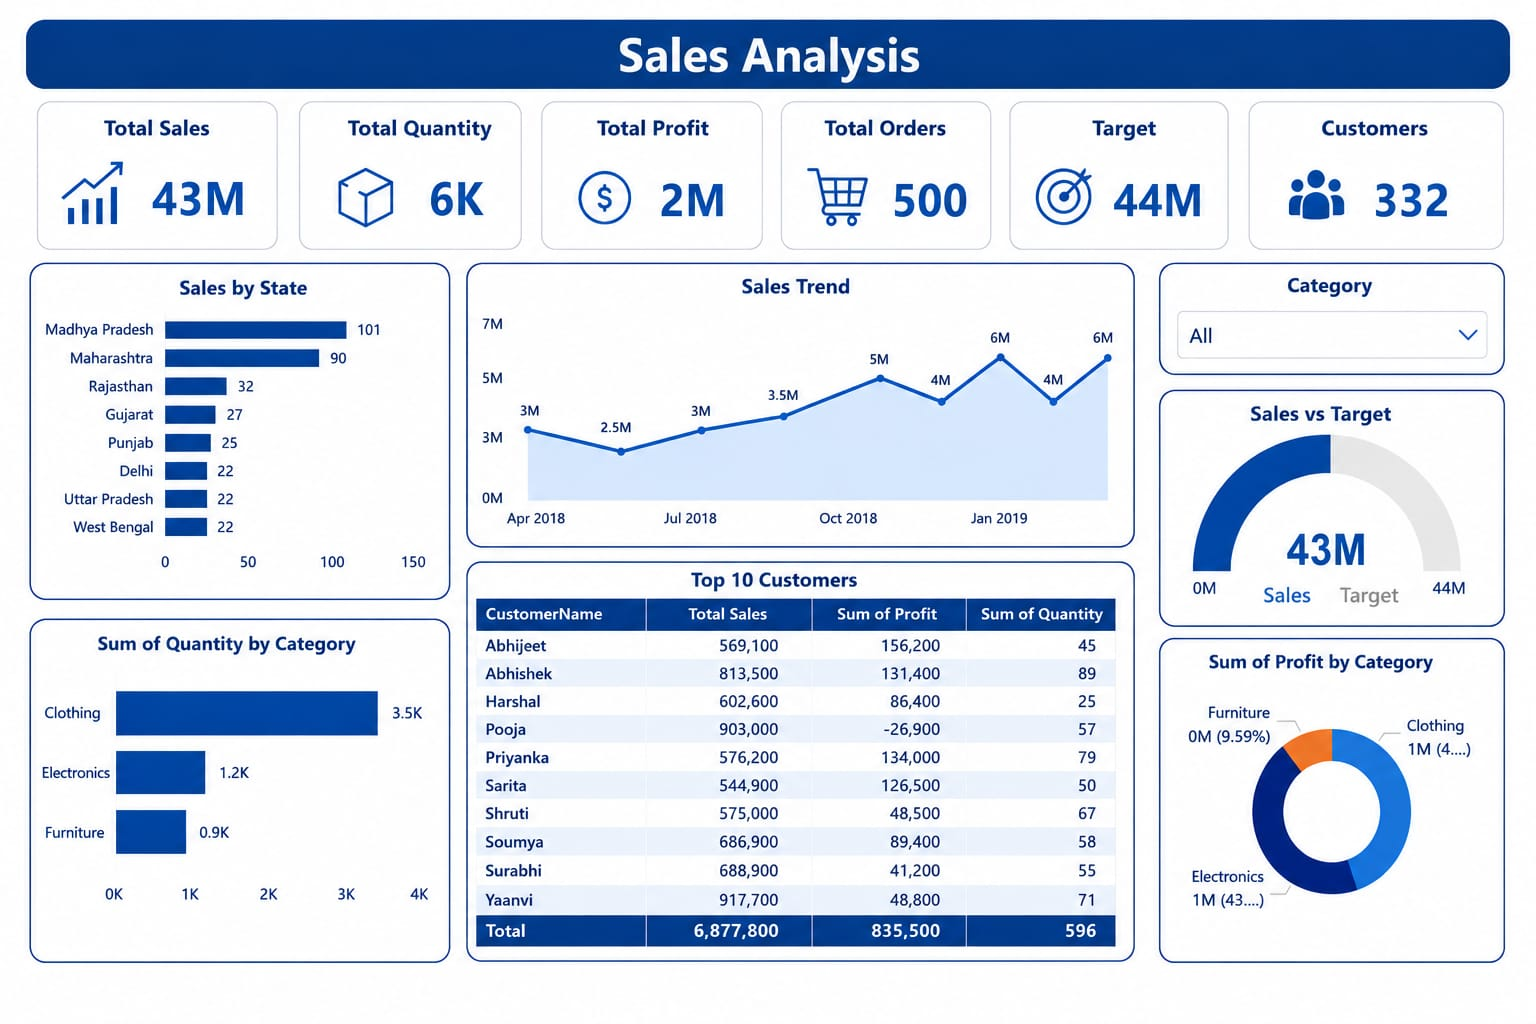

The page's visual inventory and layout, read from the dashboard file:
{"tool":"powerbi","page":{"name":"Page 1","canvas":[1280,720],"ordinal":0},"visuals":[{"type":"cardVisual","title":"Total Sales","fields":{"Data":["List of Orders.Total Sales"]},"box":[66.7,68.3,161.7,113.3],"z":0},{"type":"shape","box":[0,0,1280,61.7],"z":1000},{"type":"cardVisual","title":"Total Quantity","fields":{"Data":["Sum(Order Details.Quantity)"]},"box":[258.3,68.3,160,113.3],"z":2000},{"type":"cardVisual","title":"Total Profit","fields":{"Data":["Sum(Order Details.Profit)"]},"box":[445,66.7,158.3,115],"z":3000},{"type":"cardVisual","title":"Total Orders","fields":{"Data":["Order Details.Total Orders"]},"box":[640,66.7,160,115],"z":4000},{"type":"cardVisual","title":"Customers","fields":{"Data":["List of Orders.Total Customers"]},"box":[1026.7,65,160,115],"z":5000},{"type":"cardVisual","title":"Target","fields":{"Data":["Sum(Sales target.Target)"]},"box":[836.7,65,160,115],"z":6000},{"type":"barChart","title":"Sales by State","fields":{"Category":["List of Orders.State"],"Y":["CountNonNull(List of Orders.State)"]},"box":[5.3,200.4,418,263.7],"z":7000},{"type":"donutChart","fields":{"Category":["Order Details.Category"],"Y":["Sum(Order Details.Profit)"]},"box":[1013.9,507.6,253.2,199.1],"z":8000},{"type":"barChart","fields":{"Category":["Order Details.Category"],"Y":["Sum(Order Details.Quantity)"]},"box":[5.3,479.9,412.7,226.8],"z":9000},{"type":"gauge","title":"Sales vs Target","fields":{"TargetValue":["Sum(Sales target.Target)"],"Y":["List of Orders.Total Sales"]},"box":[1013.9,309.8,253.2,192.5],"z":10000},{"type":"slicer","title":"Category","fields":{"Values":["Order Details.Category"]},"box":[1019.7,200.2,253,96.2],"z":11000},{"type":"stackedAreaChart","title":"Sales  Trend","fields":{"Category":["List of Orders.Order Date.Variation.Date Hierarchy.Year","List of Orders.Order Date.Variation.Date Hierarchy.Quarter","List of Orders.Order Date.Variation.Date Hierarchy.Month","List of Orders.Order Date.Variation.Date Hierarchy.Day"],"Y":["List of Orders.Total Sales"]},"box":[433.3,200,566.7,193.3],"z":12000},{"type":"tableEx","title":"Top 10  Customers","fields":{"Values":["List of Orders.CustomerName","List of Orders.Total Sales","Sum(Order Details.Profit)","Sum(Order Details.Quantity)"]},"box":[438.3,406.7,555,301.7],"z":13000}]}

Visuals, with their boxes in screenshot pixels (x1, y1, x2, y2):
"Total Sales" cardVisual: detection(27, 93, 218, 227)
shape: detection(0, 12, 1463, 85)
"Total Quantity" cardVisual: detection(254, 93, 443, 227)
"Total Profit" cardVisual: detection(475, 91, 662, 227)
"Total Orders" cardVisual: detection(705, 91, 895, 227)
"Customers" cardVisual: detection(1163, 89, 1352, 225)
"Target" cardVisual: detection(938, 89, 1128, 225)
"Sales by State" barChart: detection(0, 249, 449, 561)
donutChart - Order Details.Category x Sum(Order Details.Profit): detection(1148, 613, 1447, 848)
barChart - Order Details.Category x Sum(Order Details.Quantity): detection(0, 580, 443, 848)
"Sales vs Target" gauge: detection(1148, 379, 1447, 606)
"Category" slicer: detection(1155, 249, 1454, 363)
"Sales  Trend" stackedAreaChart: detection(461, 249, 1131, 477)
"Top 10  Customers" tableEx: detection(467, 493, 1123, 850)
